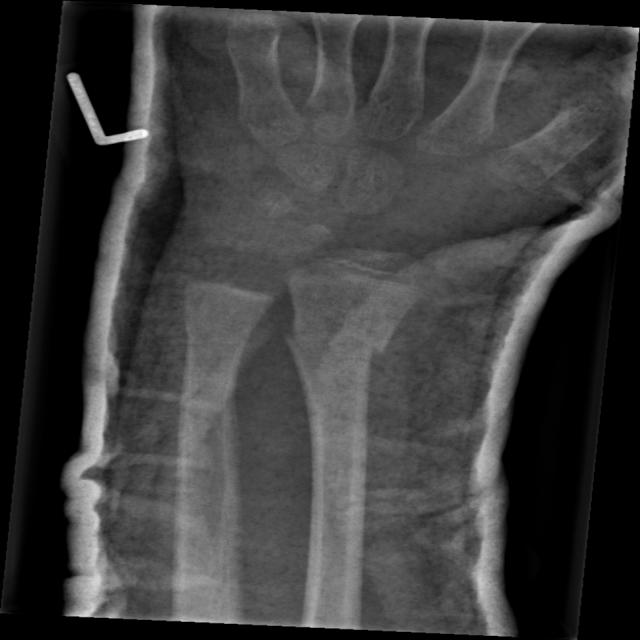radius fracture: (285, 305, 397, 411)
